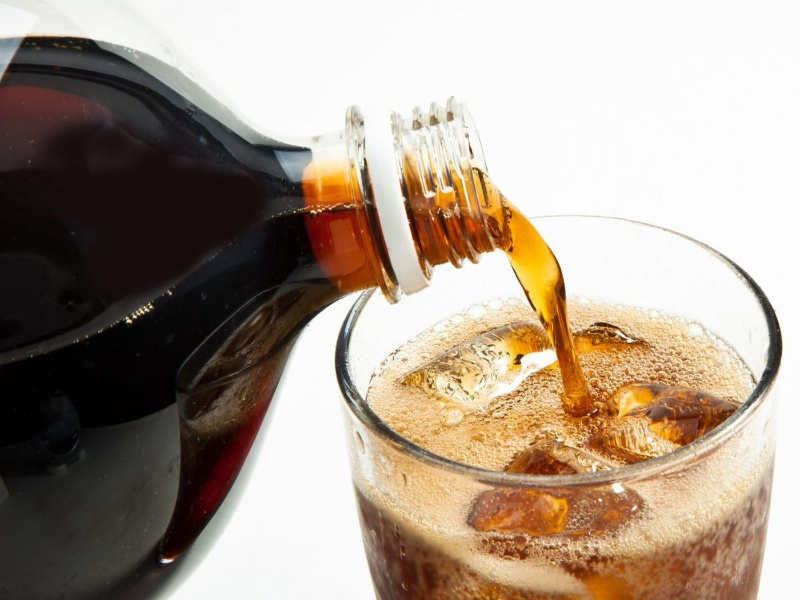Plastic bottle: (10, 5, 503, 600)
